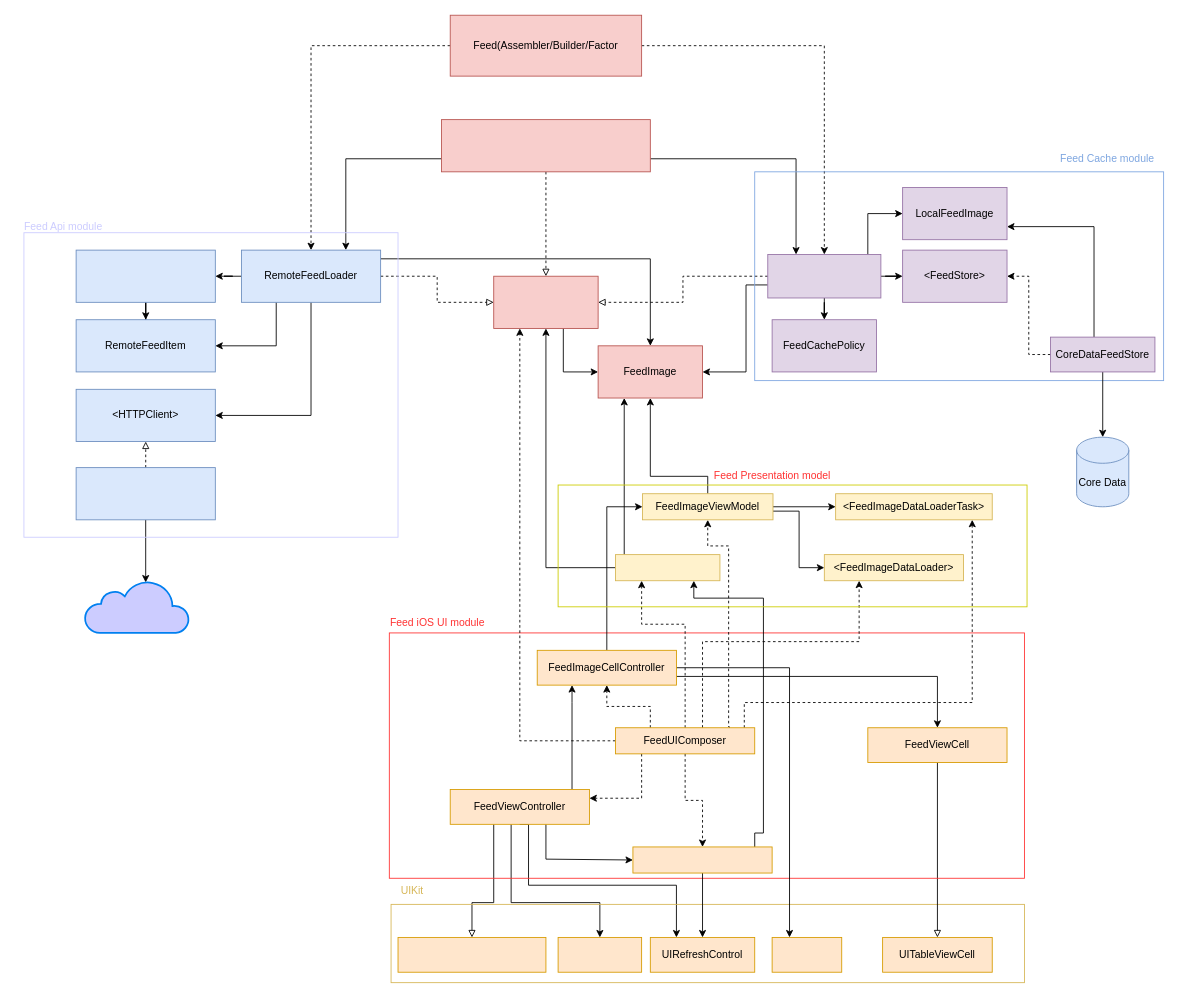
Image size: 1179x998. Some labels were removed from this diagram. Each missing label, with the box of its shape:
<FeedLoader>: (493, 275, 598, 328)
FeedItemsMapper: (75, 249, 215, 302)
FeedRefreshViewController: (632, 846, 772, 873)
FeedViewModel: (615, 554, 720, 581)
LocalFeedLoader: (767, 254, 881, 298)
RemoteWithLocalFallbackFeedService: (441, 119, 650, 172)
UIImage: (771, 937, 842, 972)
UITableView: (557, 937, 642, 972)
UITableViewController: (397, 937, 546, 972)
URLSession HTTPClient: (75, 467, 215, 520)
